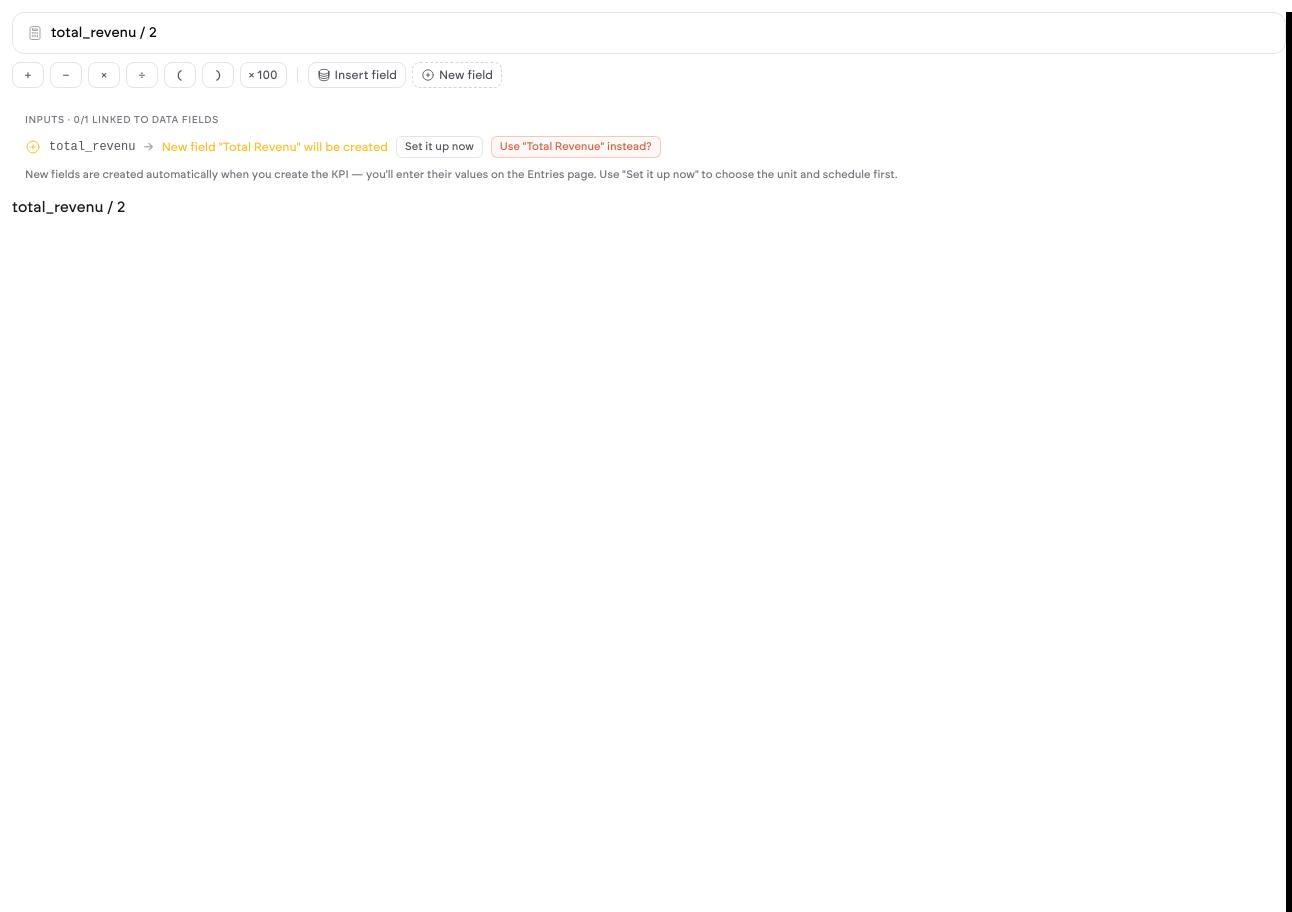
FormulaInput › flags unknown variables as new fields and offers close matches
This screenshot has width=1292, height=912.
Expected: the text "New field \"Total Revenu\" will be created" is shown, [162,139,388,155]
What coordinates should you click on to do the following:
click the button "Use \"Total Revenue\" instead?"
I would click on:
 (576, 147)
Its box is [491,136,661,158].
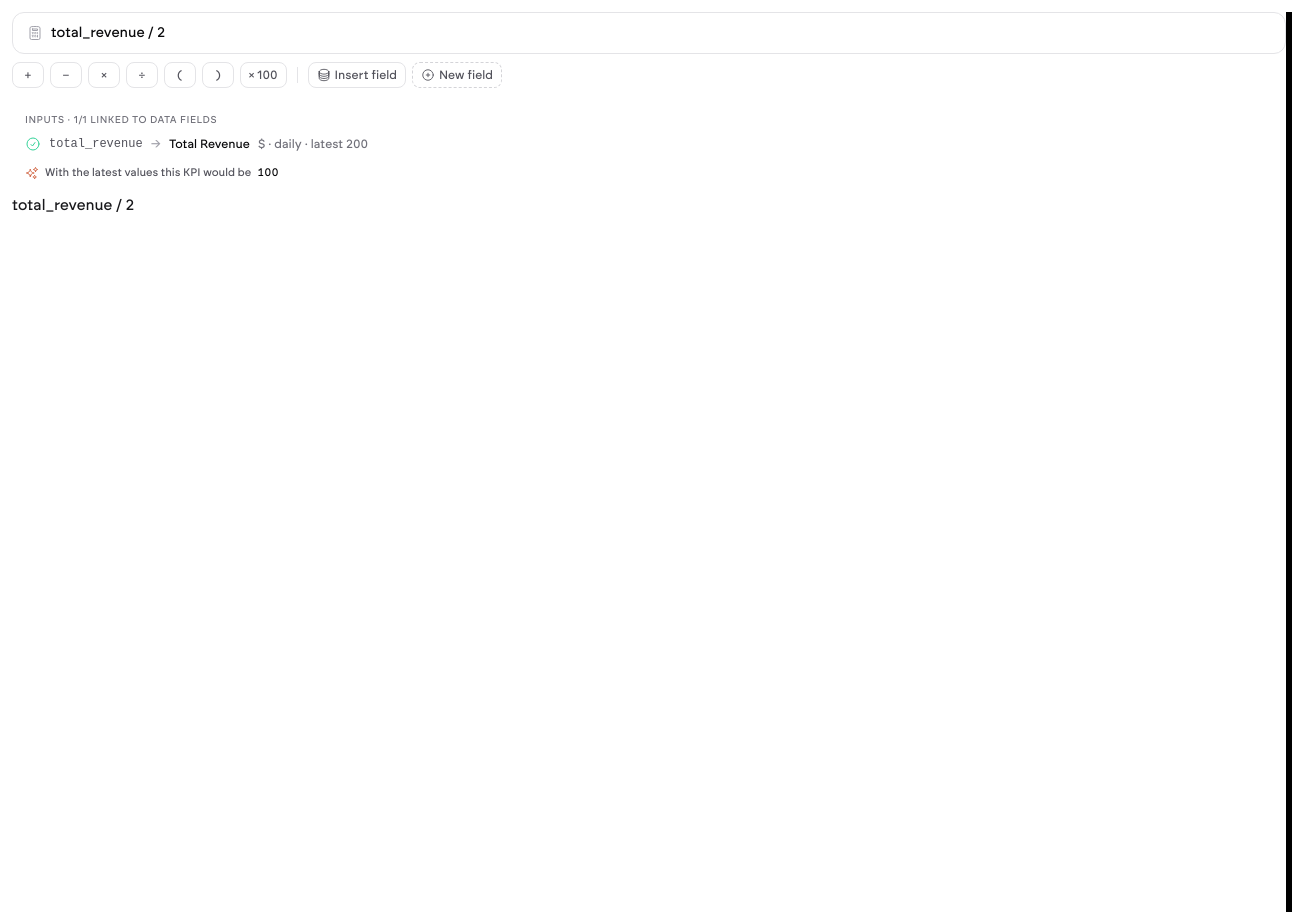
Expected: the text with test id "value" reads "total_revenue / 2", [12,198,134,212]
